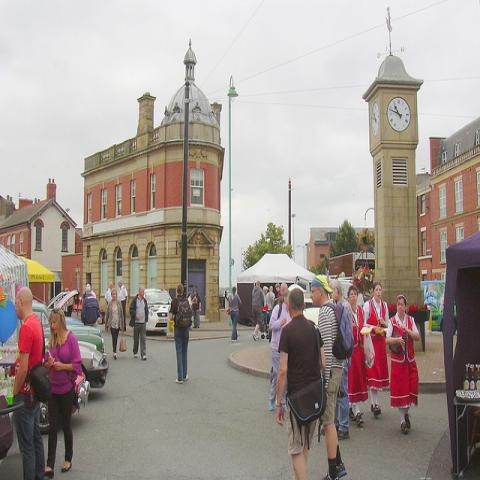car: (32, 301, 105, 361), (78, 340, 108, 388), (144, 290, 172, 333)
